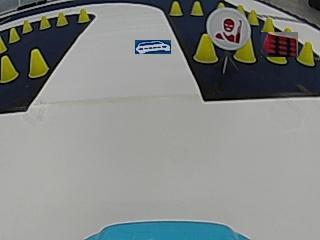evil: (205, 8, 249, 50)
